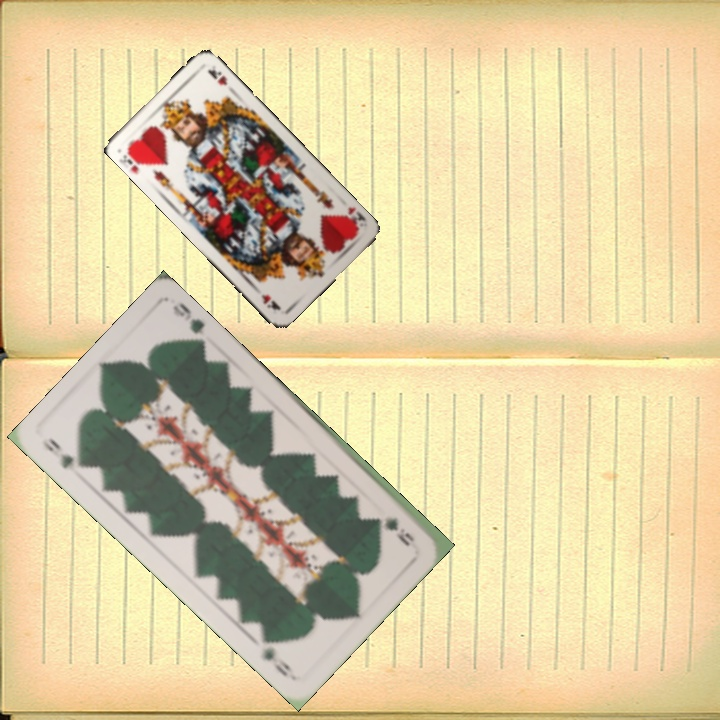G9: (37, 434, 90, 472), (381, 513, 417, 548)
HK: (338, 203, 369, 234), (117, 143, 150, 170)
